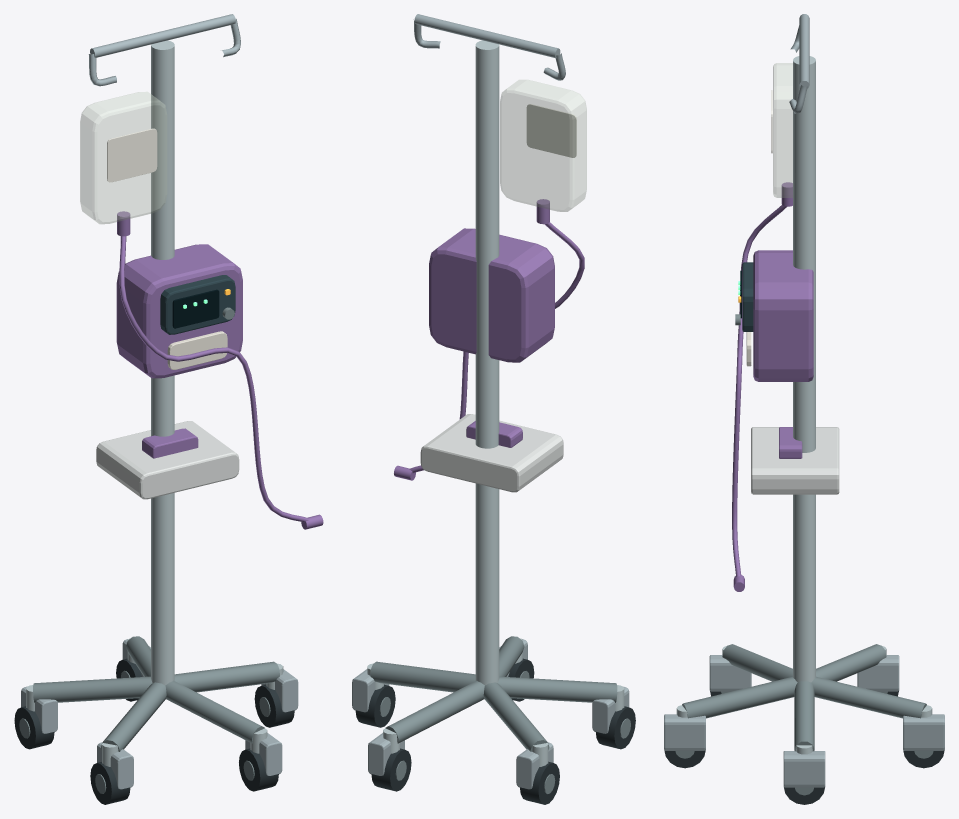
Rendered from feeding-pump-stand.glb.
3 renders of one model, left to right at view 1: azimuth 30°, elevation 25°; view 2: azimuth 150°, elevation 25°; view 3: azimuth 270°, elevation 25°, orthographic. The views are drawn at different scales.
Visible parts, largest first — view 1: feeding-pump-stand-batch (×5), feeding-pump-stand, enteral-feed-bag, enteral-cassette; view 2: feeding-pump-stand-batch (×5), enteral-feed-bag, feeding-pump-stand; view 3: feeding-pump-stand-batch (×5), feeding-pump-stand, enteral-feed-bag.
Part boxes in pixels (x1,y1,x2,y2): feeding-pump-stand-batch (×5): [14, 14, 323, 804]; feeding-pump-stand: [96, 128, 239, 499]; enteral-feed-bag: [80, 92, 166, 223]; enteral-cassette: [167, 331, 227, 369]; feeding-pump-stand-batch (×5): [352, 14, 635, 804]; enteral-feed-bag: [500, 80, 586, 211]; feeding-pump-stand: [420, 104, 576, 492]; feeding-pump-stand-batch (×5): [664, 14, 944, 804]; feeding-pump-stand: [738, 90, 839, 494]; enteral-feed-bag: [773, 63, 792, 197].
Size of the model in its own units: 0.5449 by 1.66 by 0.6036.
